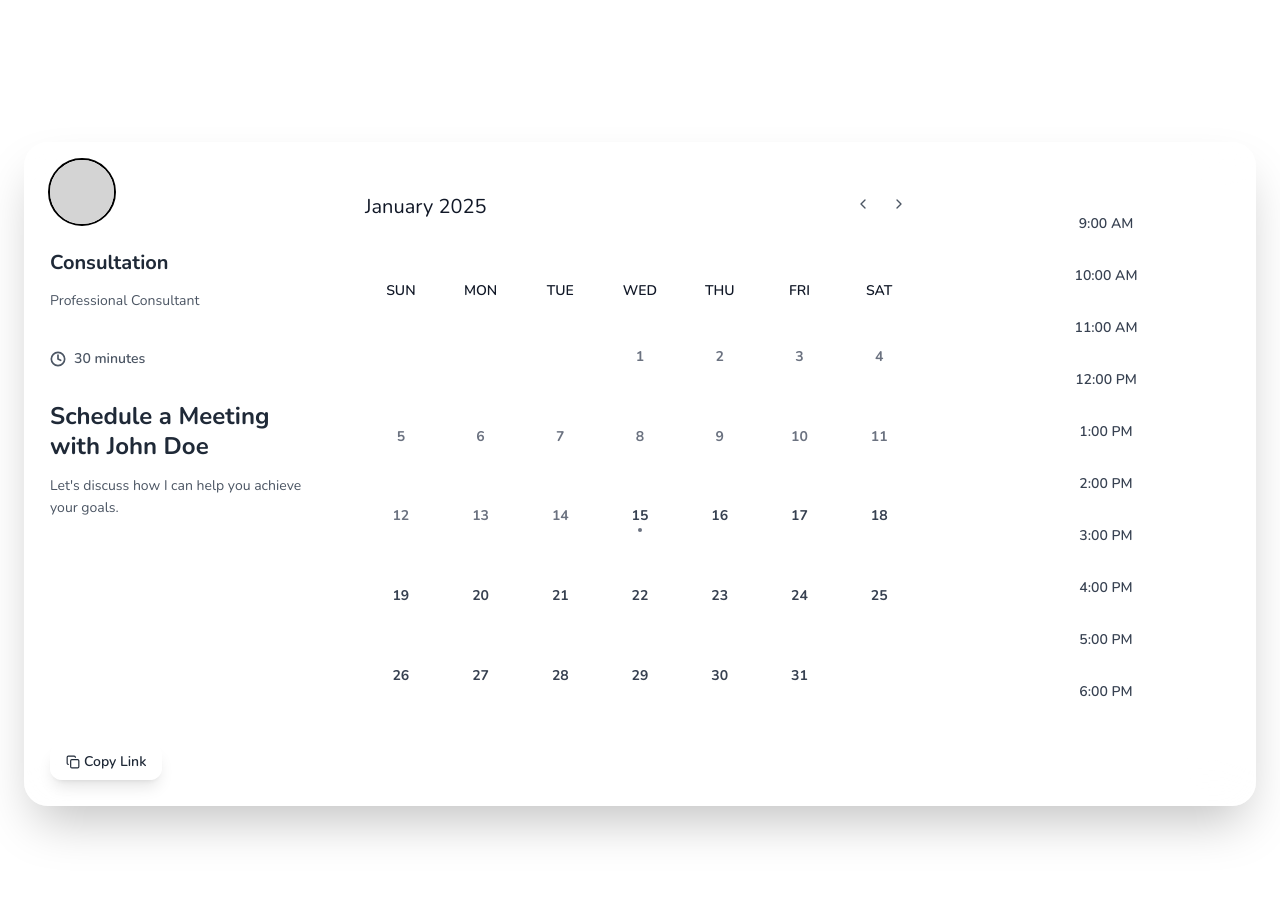
Scenario: BookingCalendar Integration › should go back from form to calendar
This screenshot has width=1280, height=900.
# Select date and time to show form
Click the button "20" at (481, 596), box [461,576,501,616]
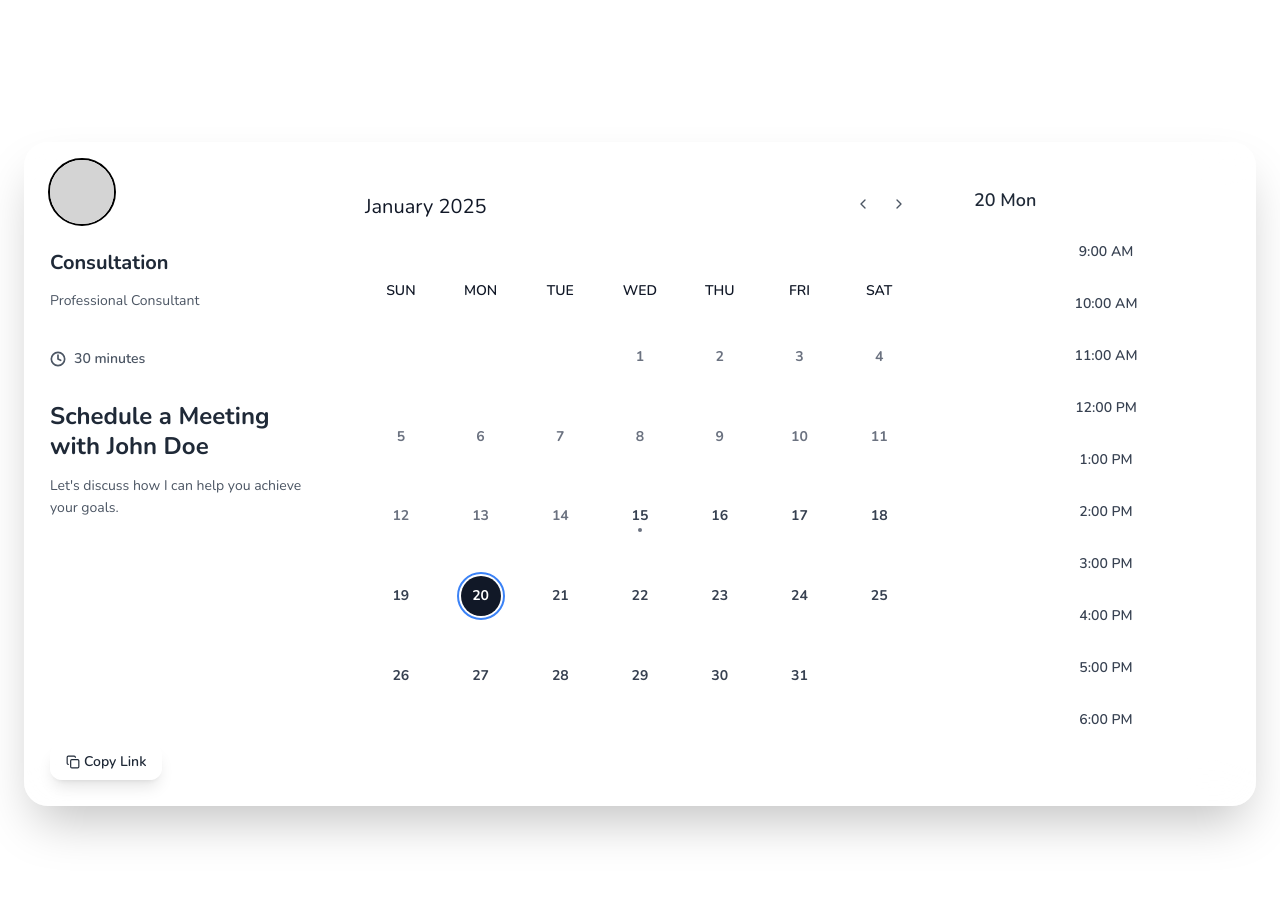
Click the button "10:00 AM" at (1106, 304), box [982,282,1230,326]
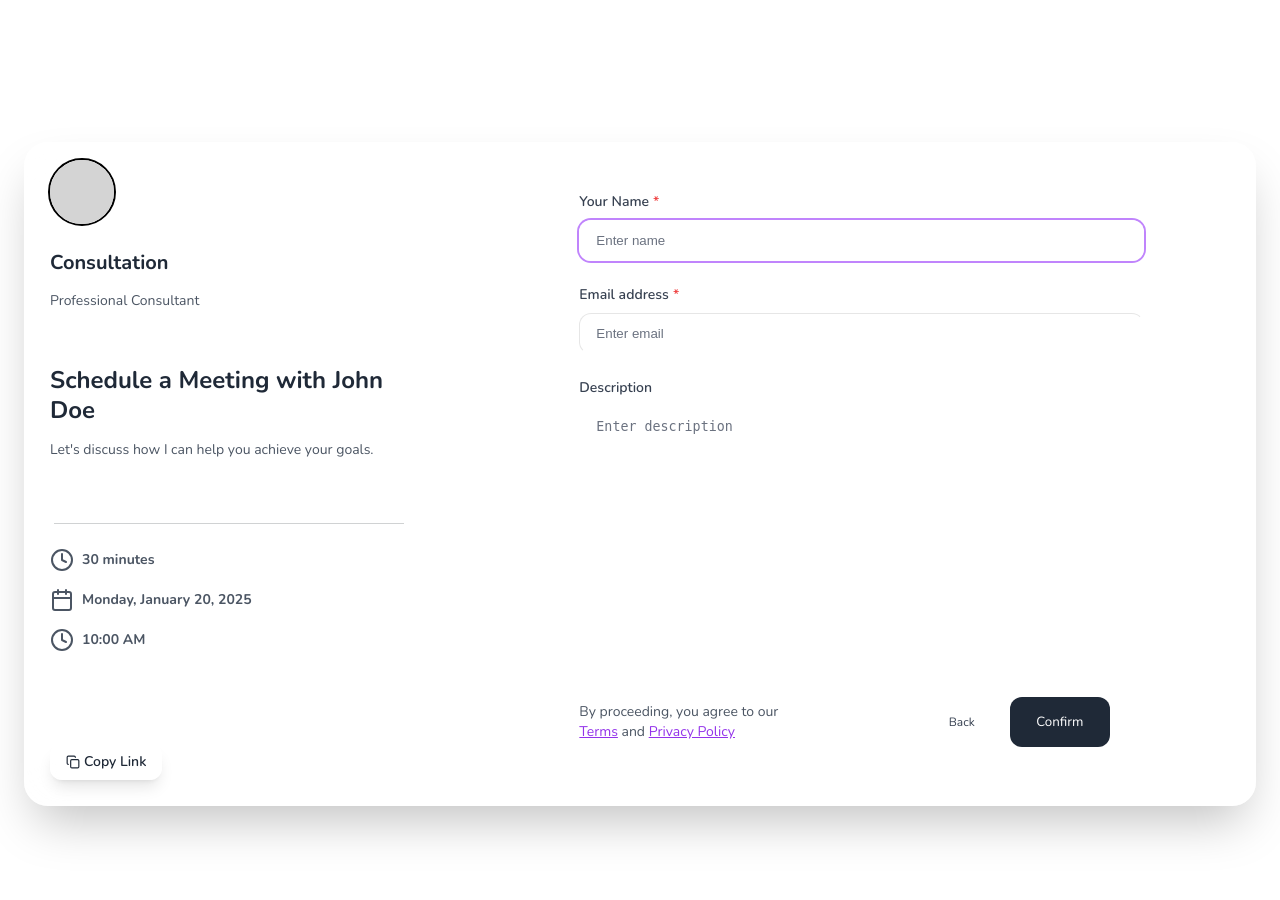
Expected: the button "Back" is shown
# Click back
Click the button "Back" at (962, 722), box [930,698,994,746]
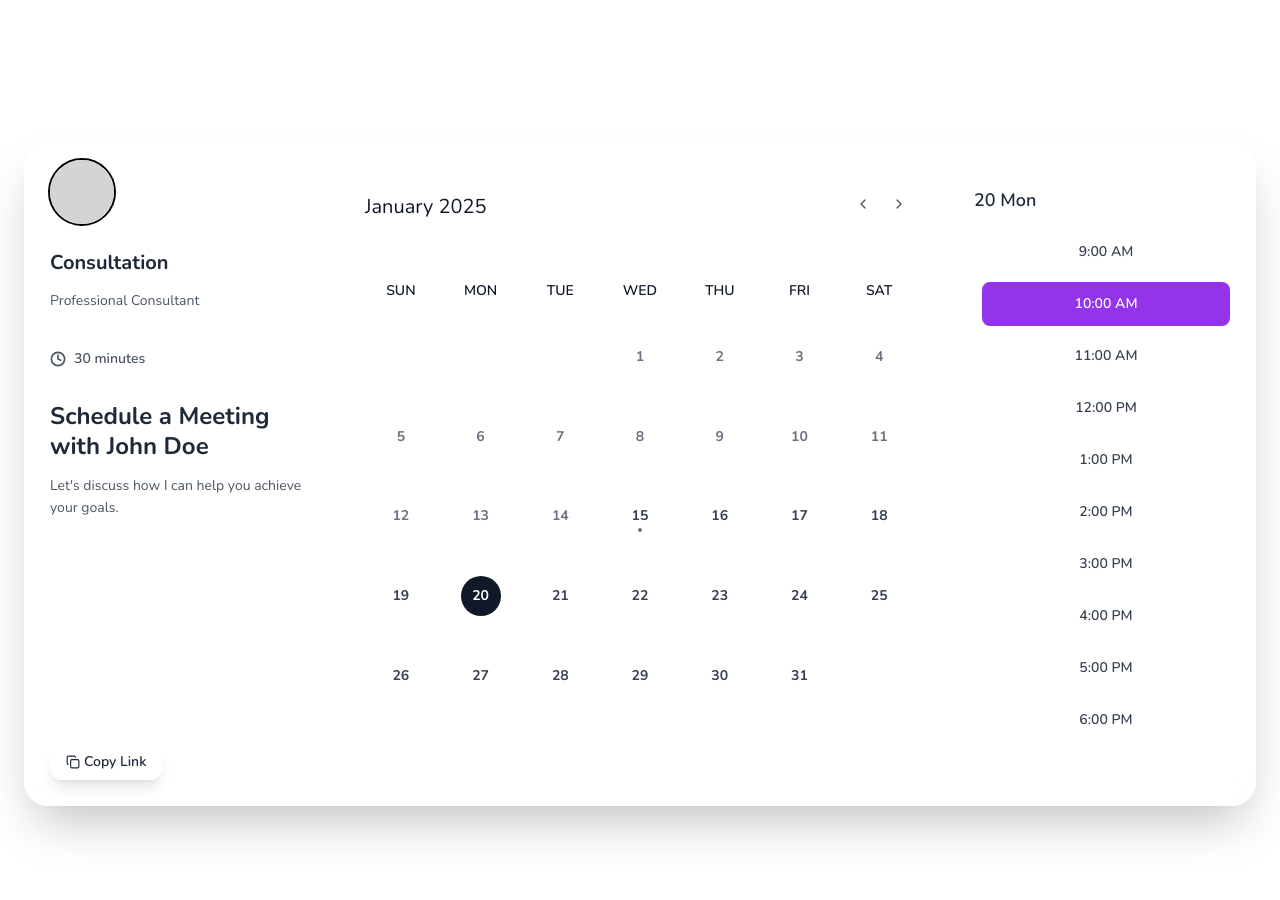
Expected: the heading "January 2025" is shown, [365,193,486,221]
